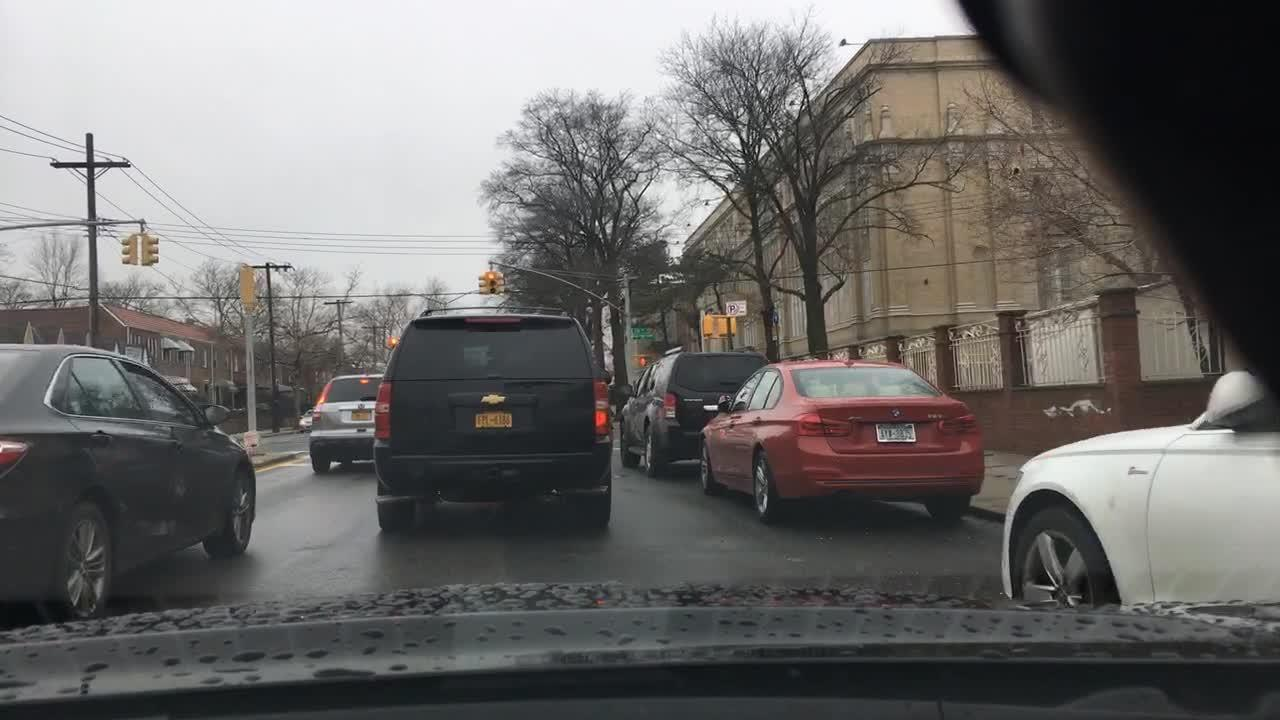bmw: (888, 404, 906, 421)
chevrolet: (463, 390, 518, 409)
